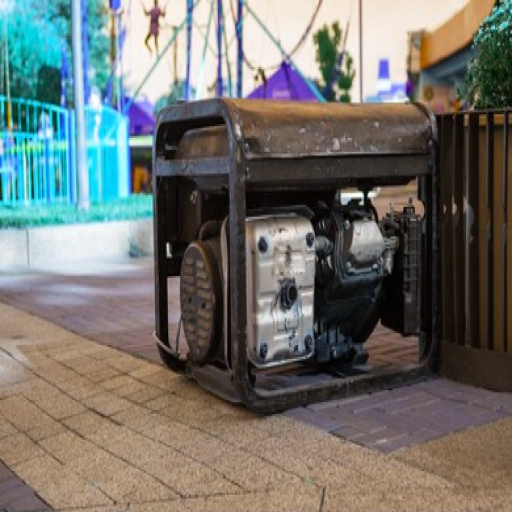portable_generator: (151, 97, 441, 415)
